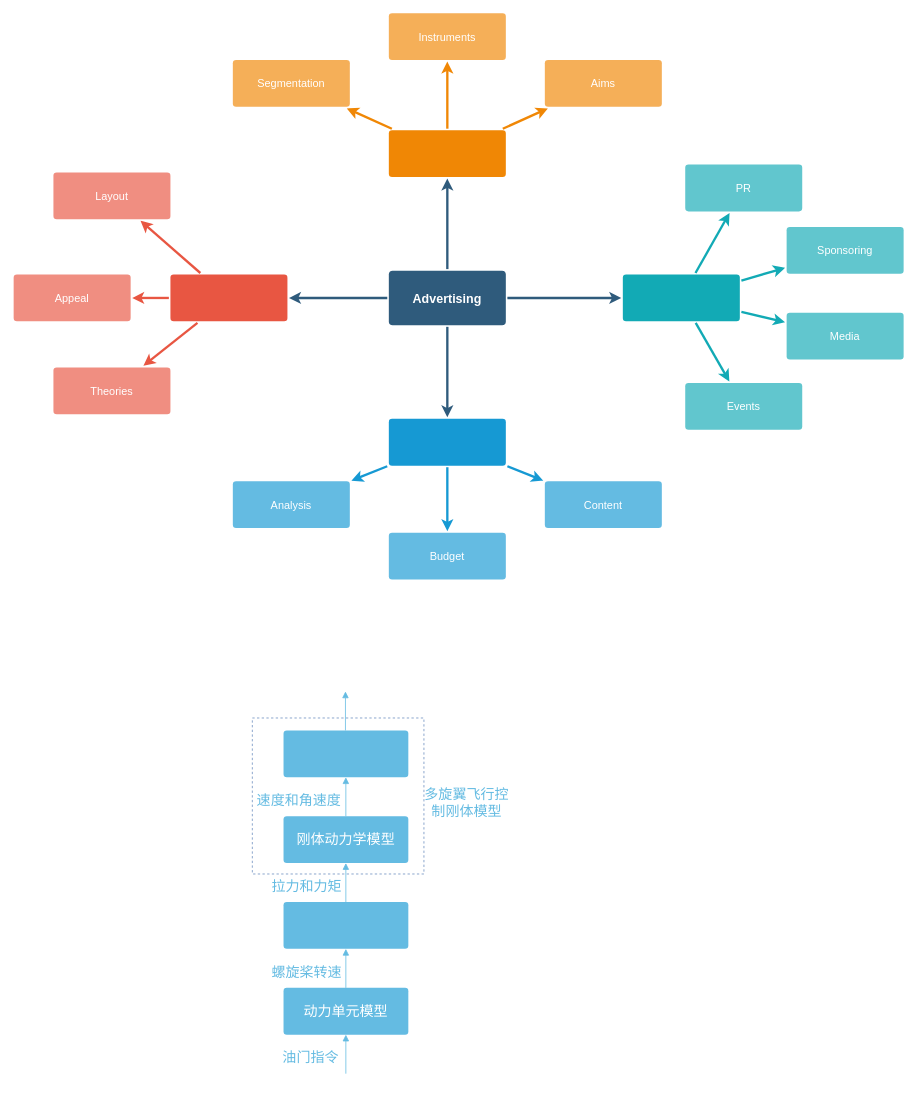
The diagram is 916 pixels wide and 1095 high, and some of its shapes have lost their labels. The shapes that lost their labels are listed below. From the top down, each one's centre as x and y in pixels, then its label:
At pixel 446 153: "Marketing".
At pixel 228 297: "Embassy".
At pixel 680 297: "Communication".
At pixel 446 441: "Organization".
At pixel 345 753: "刚体运动学模型".
At pixel 345 925: "控制效率模型".
